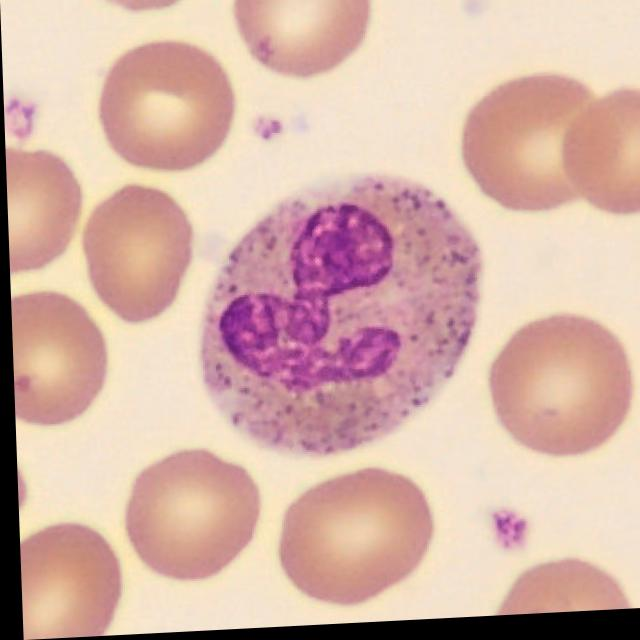Neutrofilo segmentado: (195, 175, 480, 460)
